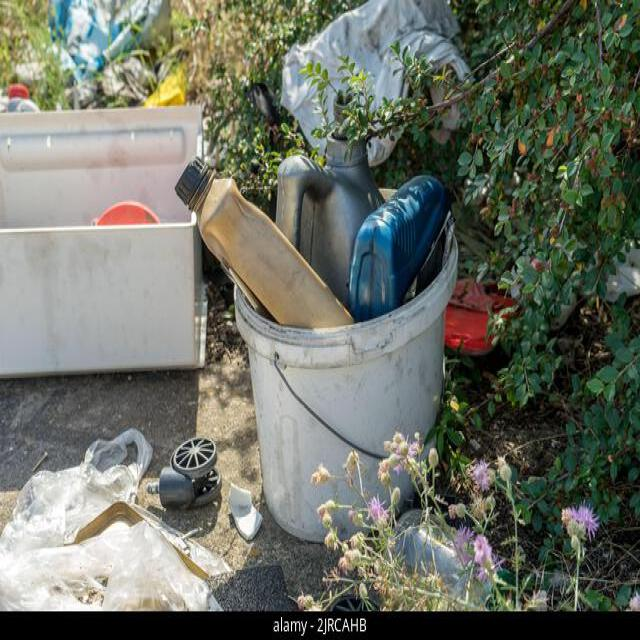plastic: (171, 129, 460, 348)
